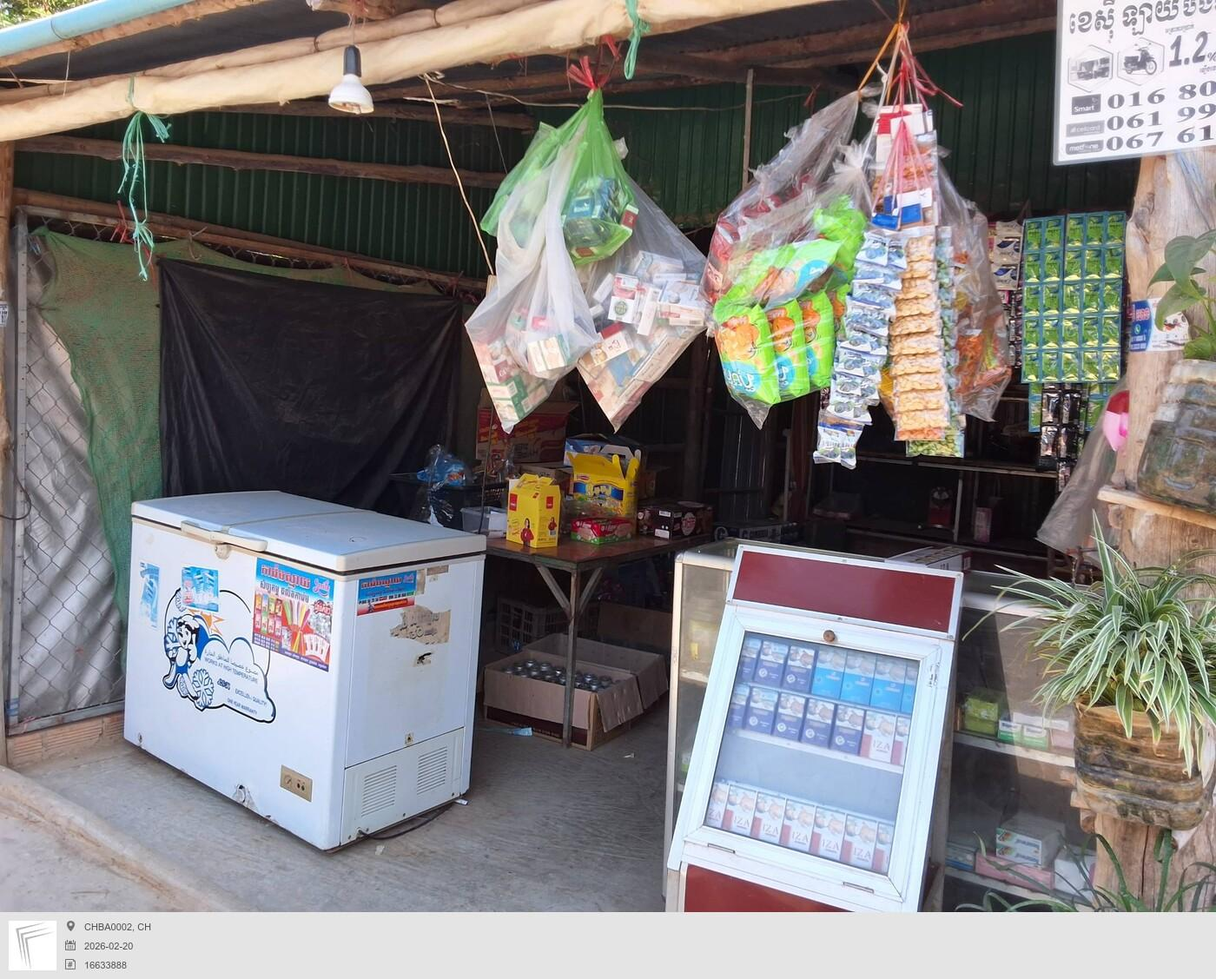cigarette_pack: (842, 811, 881, 869), (812, 808, 853, 862), (777, 798, 817, 853), (874, 652, 908, 714), (747, 792, 786, 842), (720, 785, 757, 837), (843, 648, 875, 707), (754, 638, 791, 685), (781, 642, 816, 691), (864, 711, 896, 763), (814, 644, 842, 702), (747, 684, 776, 737), (806, 698, 835, 748), (836, 705, 864, 756), (777, 691, 803, 742), (735, 635, 763, 680), (723, 682, 748, 728)
